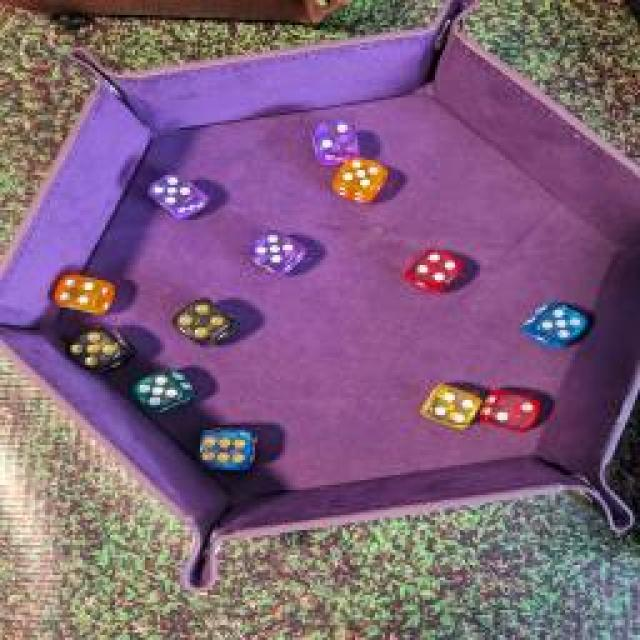dice_2: (300, 118, 365, 168), (480, 389, 545, 436)
dice_4: (167, 296, 245, 349), (414, 378, 481, 432), (400, 245, 468, 295), (52, 275, 118, 315)
dice_5: (142, 171, 212, 224), (521, 301, 591, 349), (129, 366, 199, 412), (65, 324, 127, 374), (328, 155, 388, 205), (244, 228, 306, 272)
dice_6: (190, 424, 260, 476)
